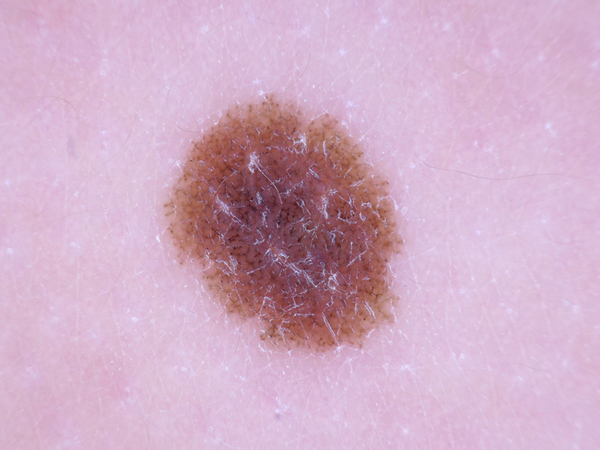Detected Lesion: (160, 90, 411, 357)
